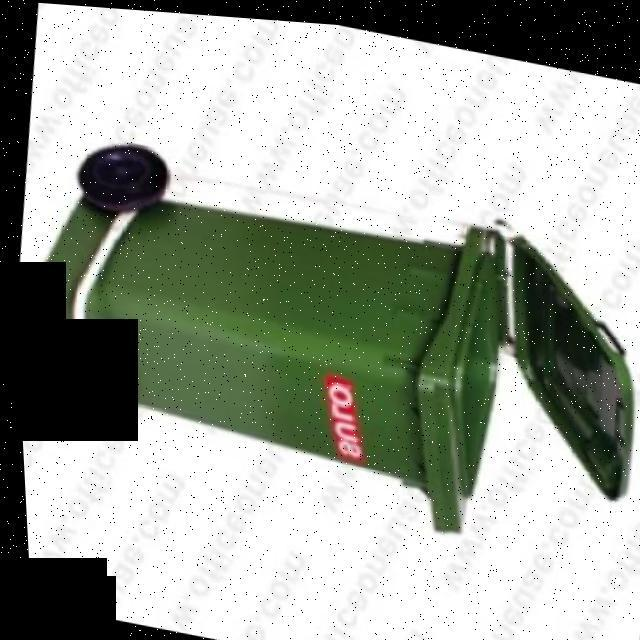bin: (4, 109, 640, 573)
